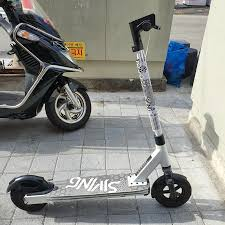kick_body: (55, 176, 148, 196)
kick_handler: (129, 12, 161, 50)
kick_neck: (135, 53, 167, 159)
kick_wheel: (153, 175, 192, 207), (9, 174, 43, 210)
